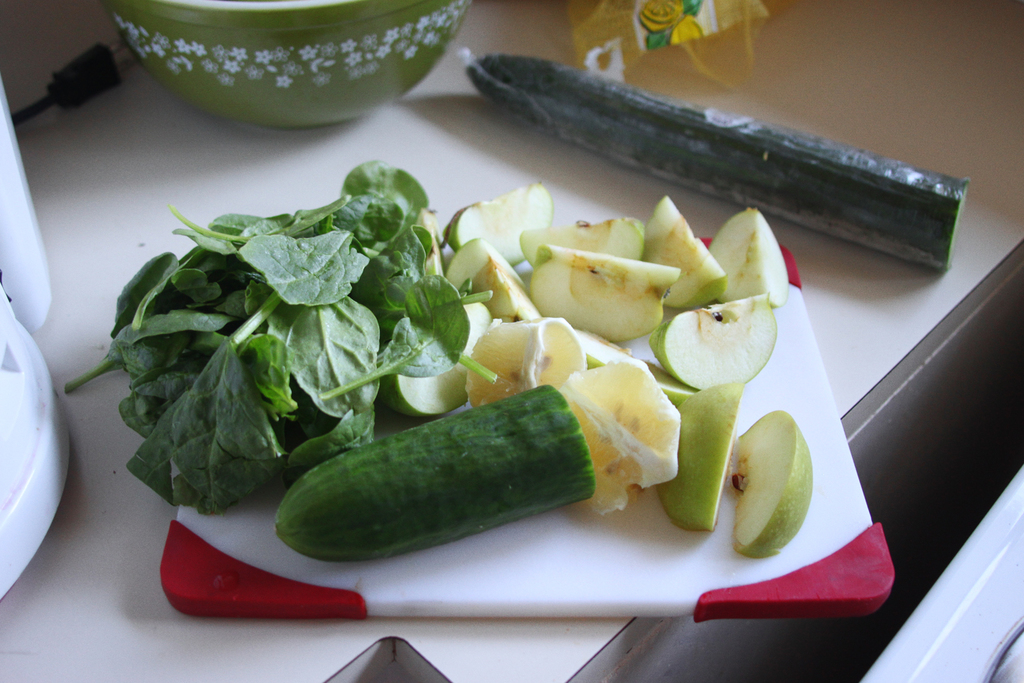Apple: (380, 180, 814, 560), (648, 286, 774, 392)
